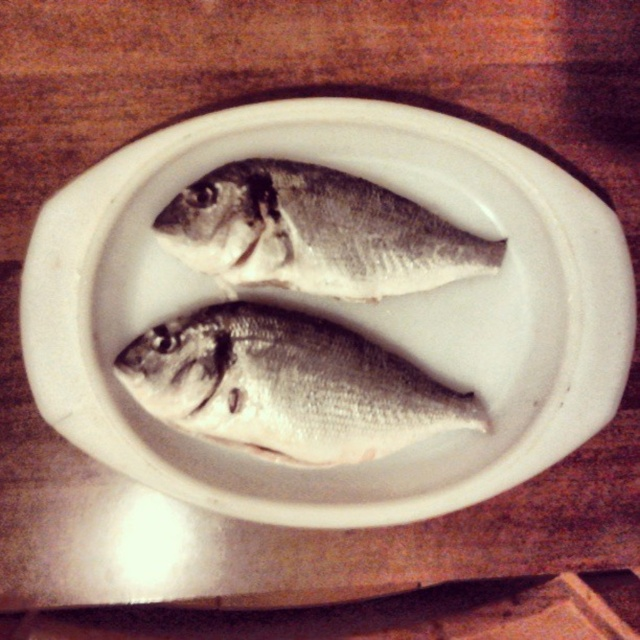Fish: (76, 248, 474, 484), (142, 152, 508, 296)
